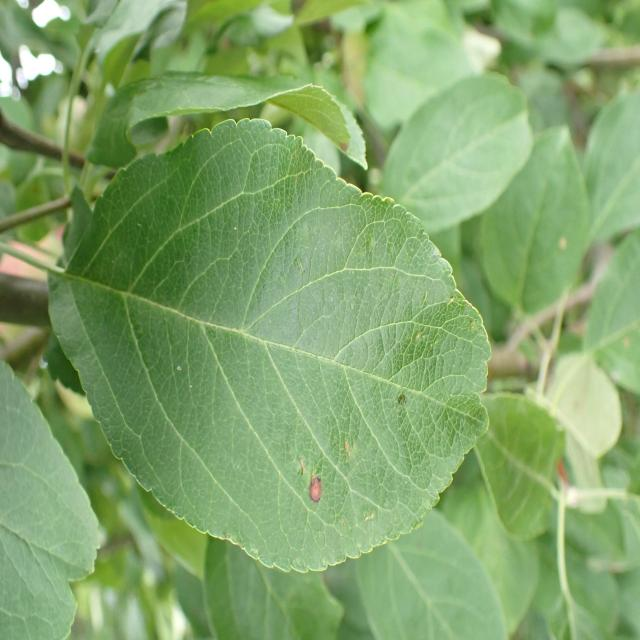Black Rot: (302, 460, 330, 525)
